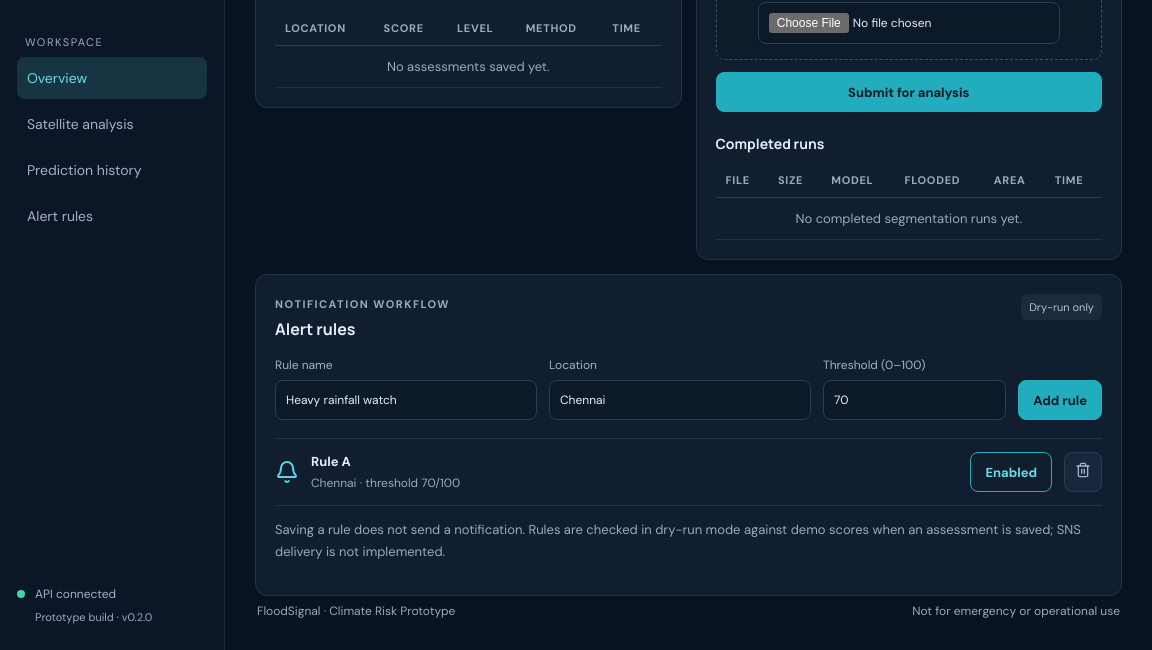
Test: alert rules › deletes a rule
The image size is (1152, 650).
(page scrolled)
What coordinates should you click on to do the following:
click the button named "Delete rule Rule A"
I would click on:
 (1083, 472)
Its box is [1064, 452, 1102, 492].
(page scrolled)
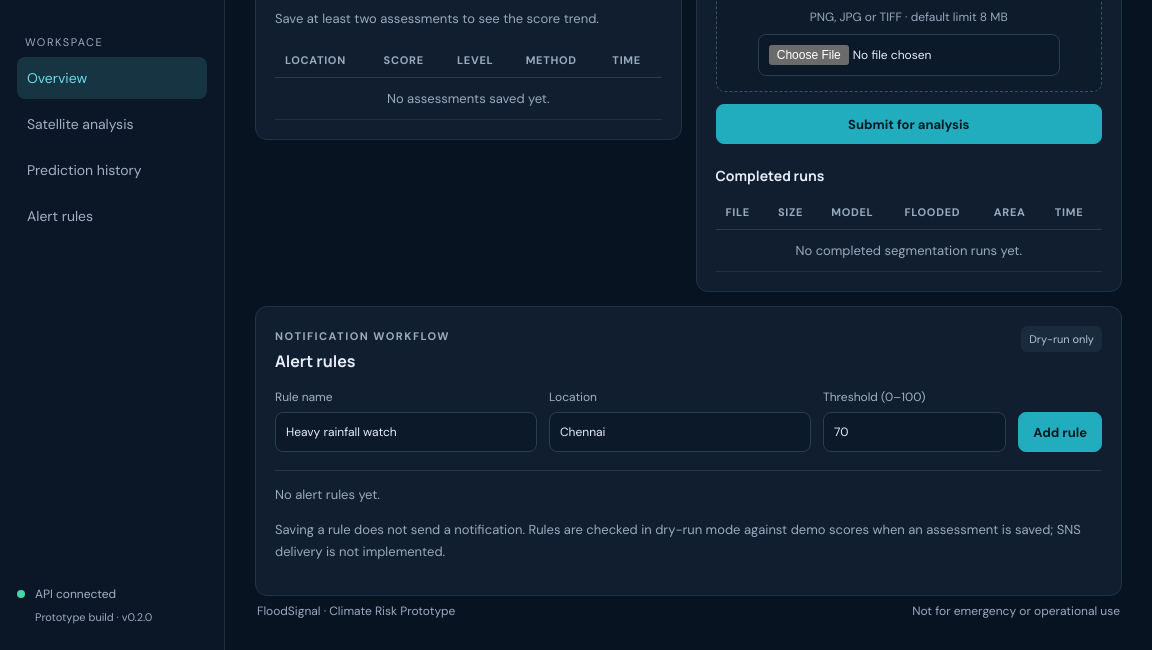
Expected: the text "Rule A" is gone
